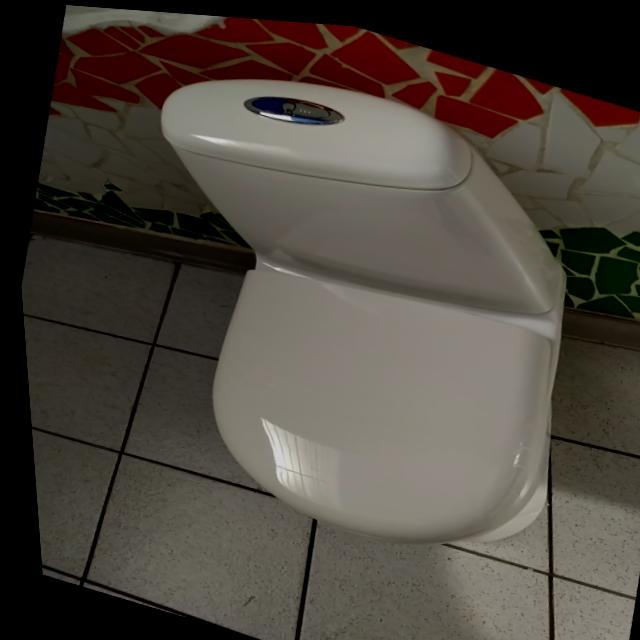toilet: (73, 25, 625, 586)
